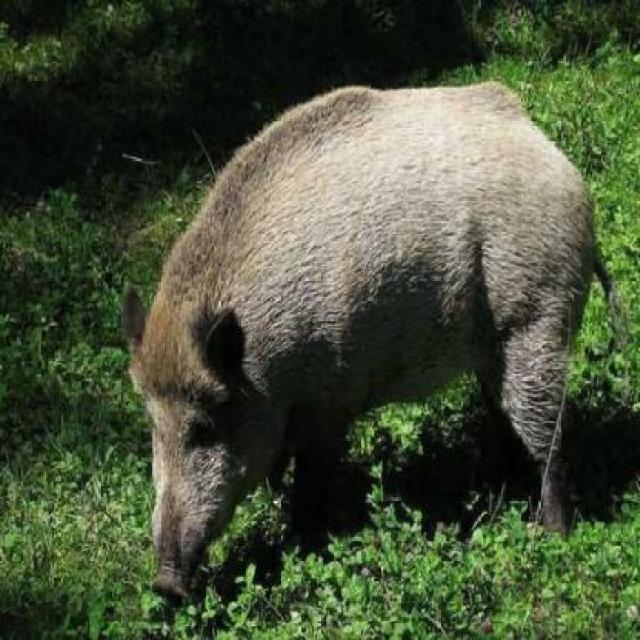WildBoar: (147, 46, 602, 600)
